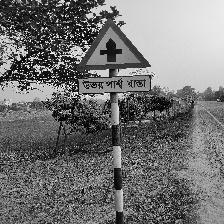Crossroad: (74, 16, 153, 98)
